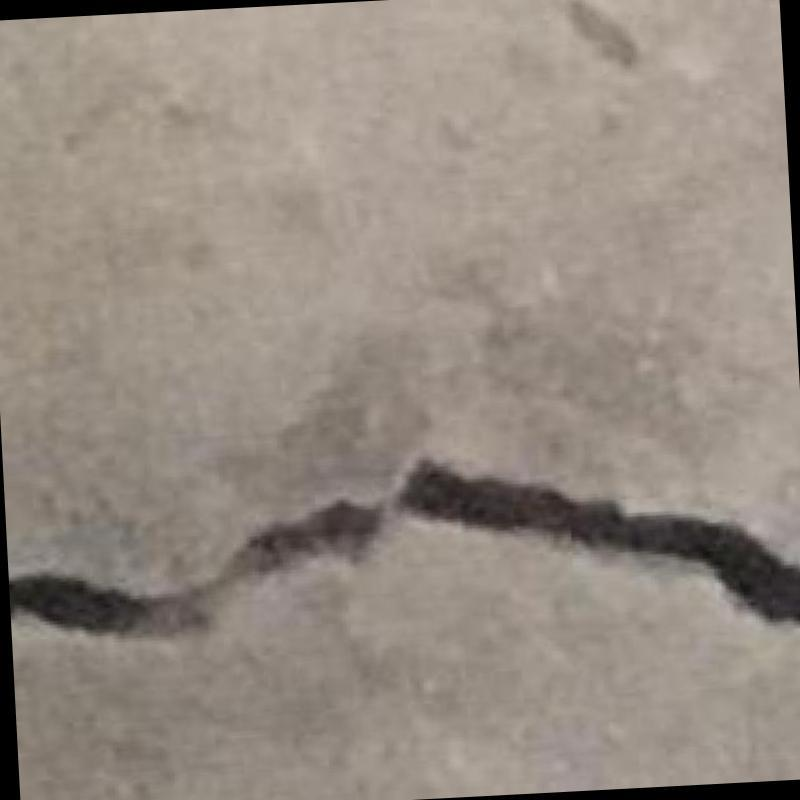crack: (9, 459, 800, 635)
